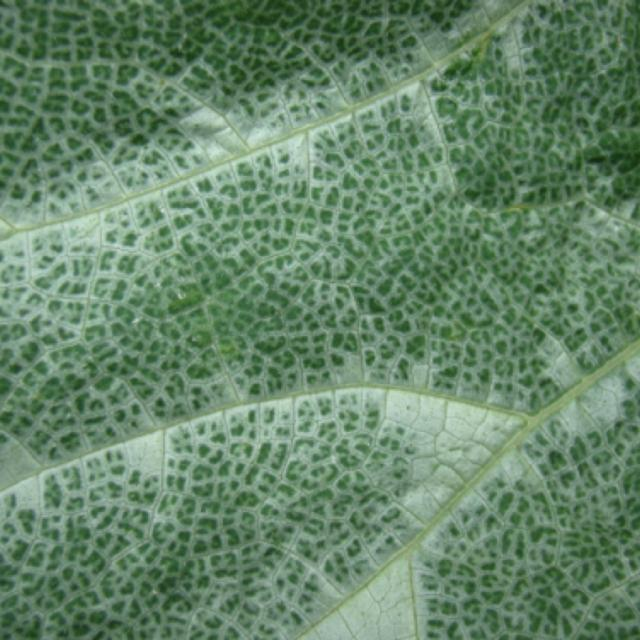Whitefly: (0, 0, 639, 630)
